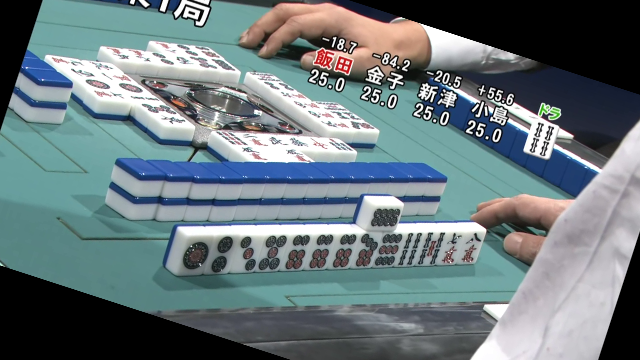Tehai: (166, 213, 484, 276)
